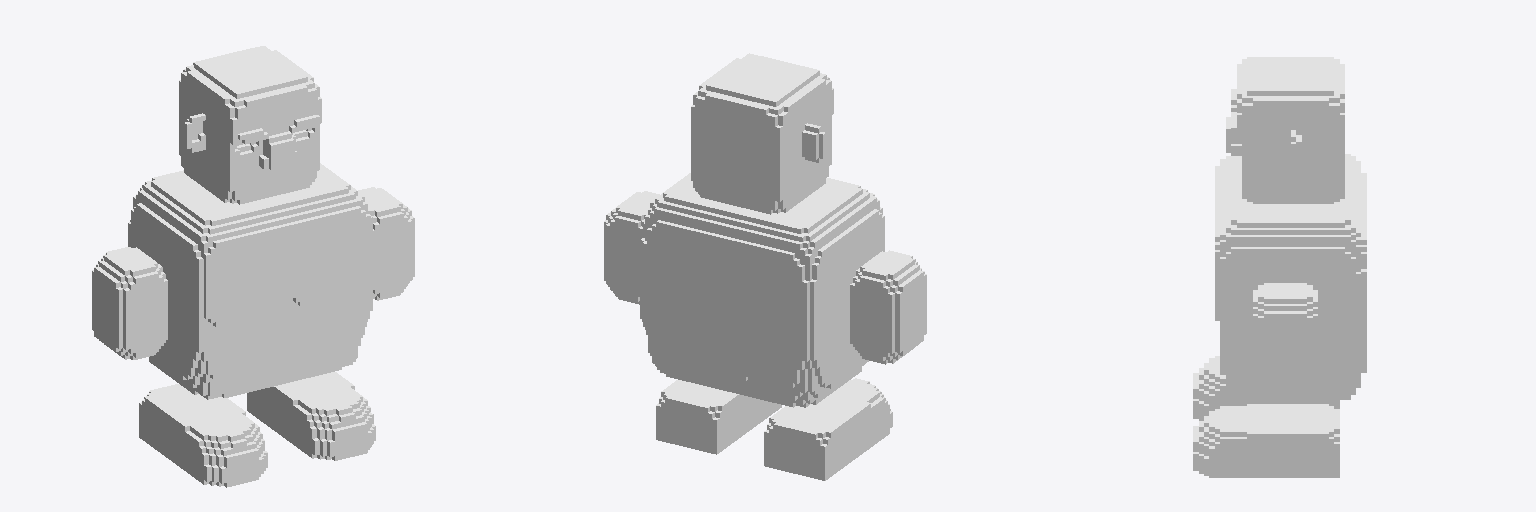
The model's file is Prisoner_Enemy_1.obj.
3 views of the same model, side by side, from view 1: azimuth 30°, elevation 25°; view 2: azimuth 150°, elevation 25°; view 3: azimuth 270°, elevation 25° (orthographic).
Size of the model in its own units: 63 by 74 by 32.